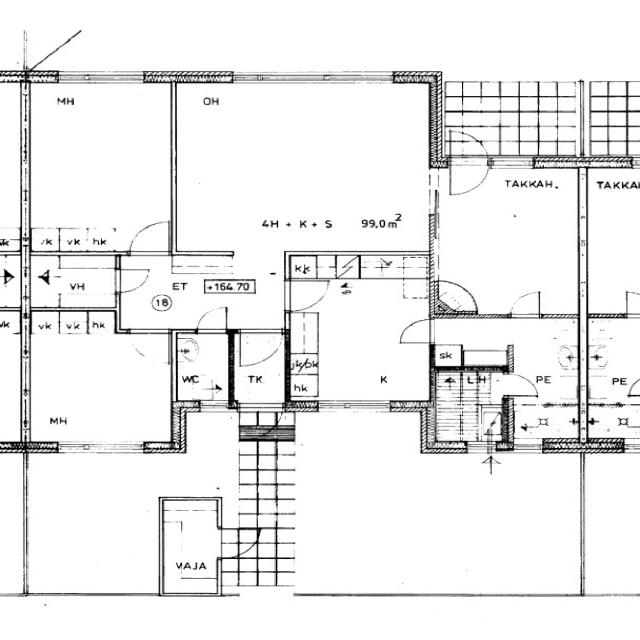door: (448, 133, 491, 198), (124, 217, 174, 259), (235, 329, 282, 366), (281, 278, 330, 313), (126, 328, 172, 363), (505, 288, 545, 320), (394, 316, 436, 346), (111, 265, 153, 295), (500, 372, 540, 400), (193, 306, 231, 334), (222, 528, 261, 554), (625, 377, 640, 398)
window: (52, 439, 150, 459), (53, 69, 147, 88), (315, 397, 393, 417), (15, 350, 35, 395), (488, 155, 536, 172), (510, 441, 546, 456), (195, 399, 230, 414)
zone: (173, 77, 436, 251), (22, 82, 172, 254), (435, 162, 579, 316), (28, 310, 179, 446), (286, 274, 428, 406), (115, 252, 288, 332), (159, 499, 220, 596), (26, 254, 120, 312), (431, 368, 502, 444), (585, 318, 640, 403), (427, 320, 513, 370), (173, 331, 230, 403), (232, 334, 285, 407), (515, 320, 581, 375), (507, 403, 579, 443), (583, 403, 640, 441), (434, 278, 478, 314), (1, 254, 26, 309), (431, 345, 461, 367), (1, 310, 20, 332)
